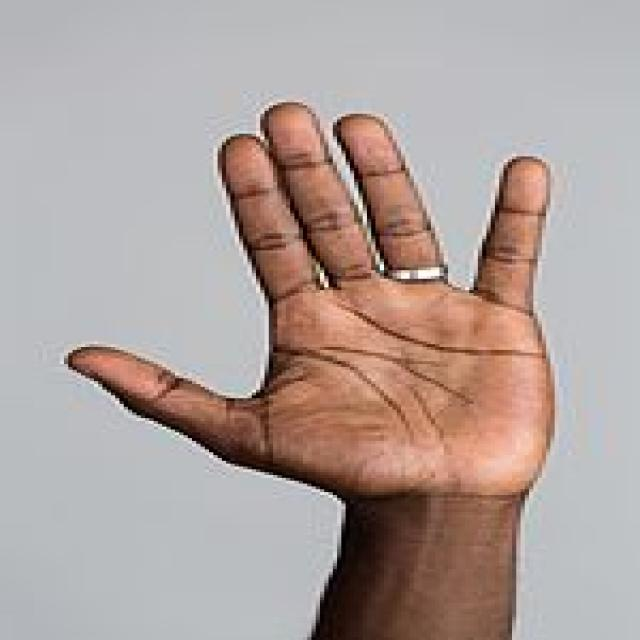hand: (68, 105, 560, 640)
